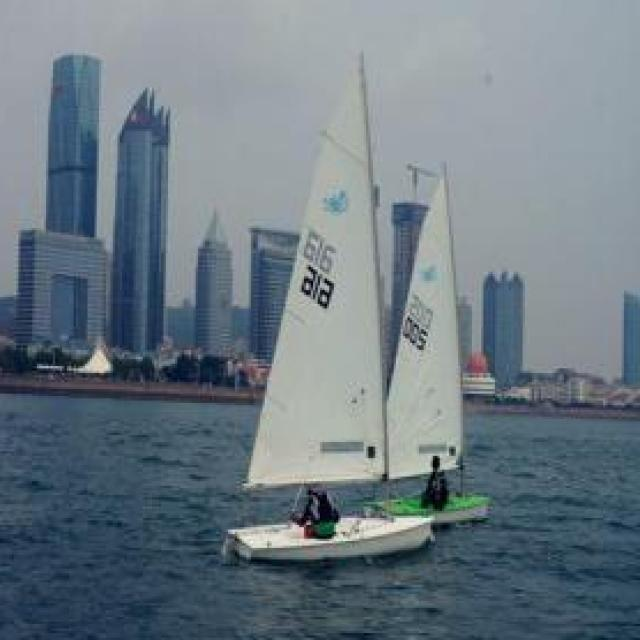sailboat: (220, 46, 429, 570), (364, 145, 492, 525)
